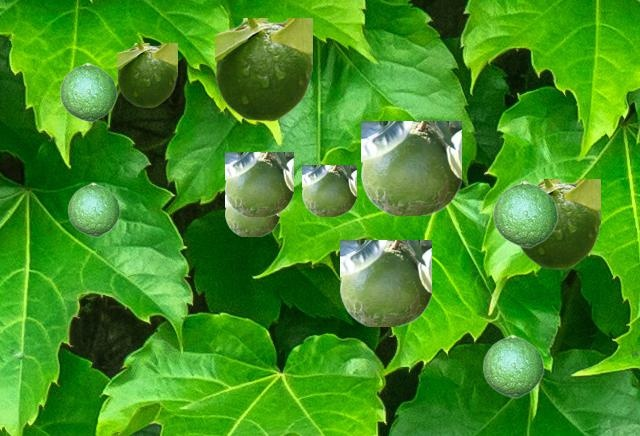dalandan: (215, 18, 311, 120), (361, 121, 460, 214), (340, 240, 430, 325), (519, 179, 599, 268), (492, 180, 557, 247), (225, 152, 292, 215), (482, 334, 543, 397), (117, 43, 176, 106), (59, 62, 116, 121), (67, 182, 119, 236), (302, 165, 355, 215), (225, 196, 278, 235)
